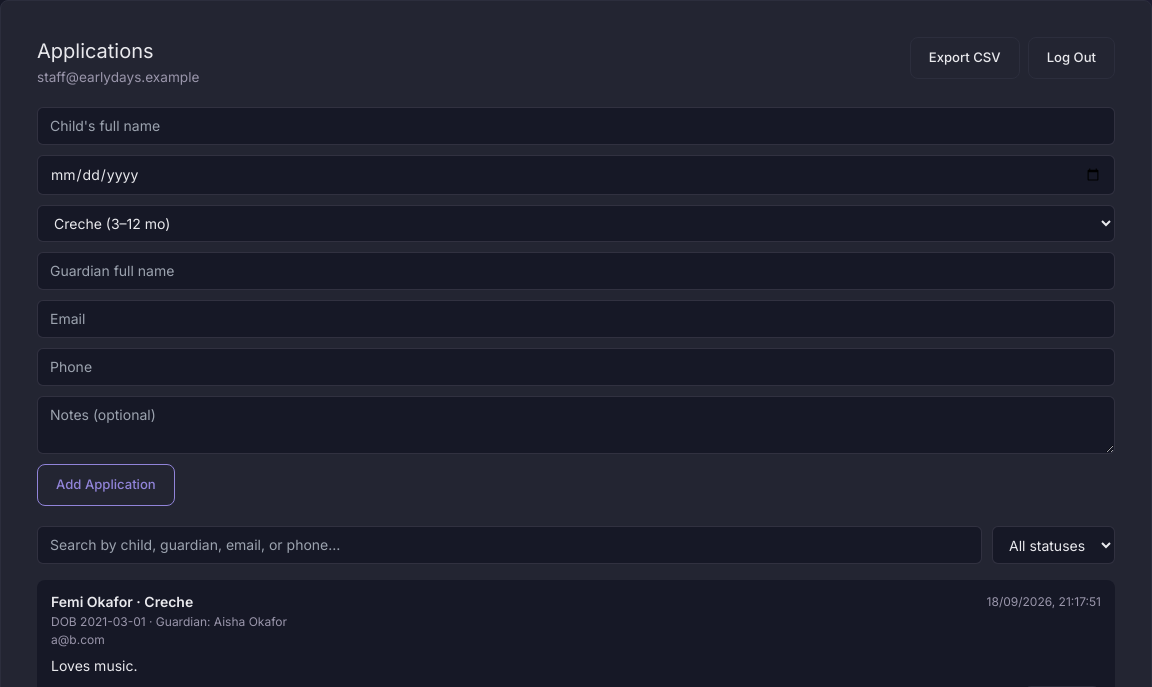
Test case: AdminApplicationsList › shows an error and keeps the form filled in when create fails
Expected: the text "Femi Okafor · Creche" is shown, top-left (51, 592), bottom-right (193, 612)
Type "New Kid" into the field with placeholder "Child's full name". click: (576, 126)
box: top-left (37, 107), bottom-right (1115, 145)
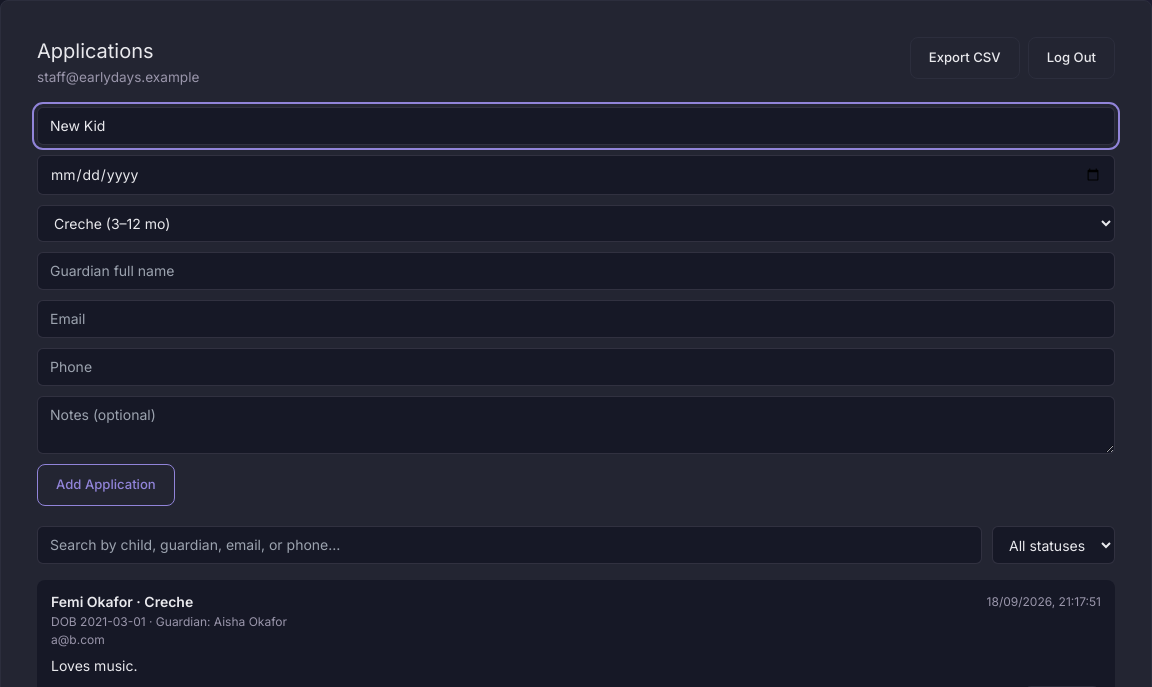
Type "2022-01-01" into the date field named "Child's date of birth". click: (576, 175)
box: top-left (37, 155), bottom-right (1115, 195)
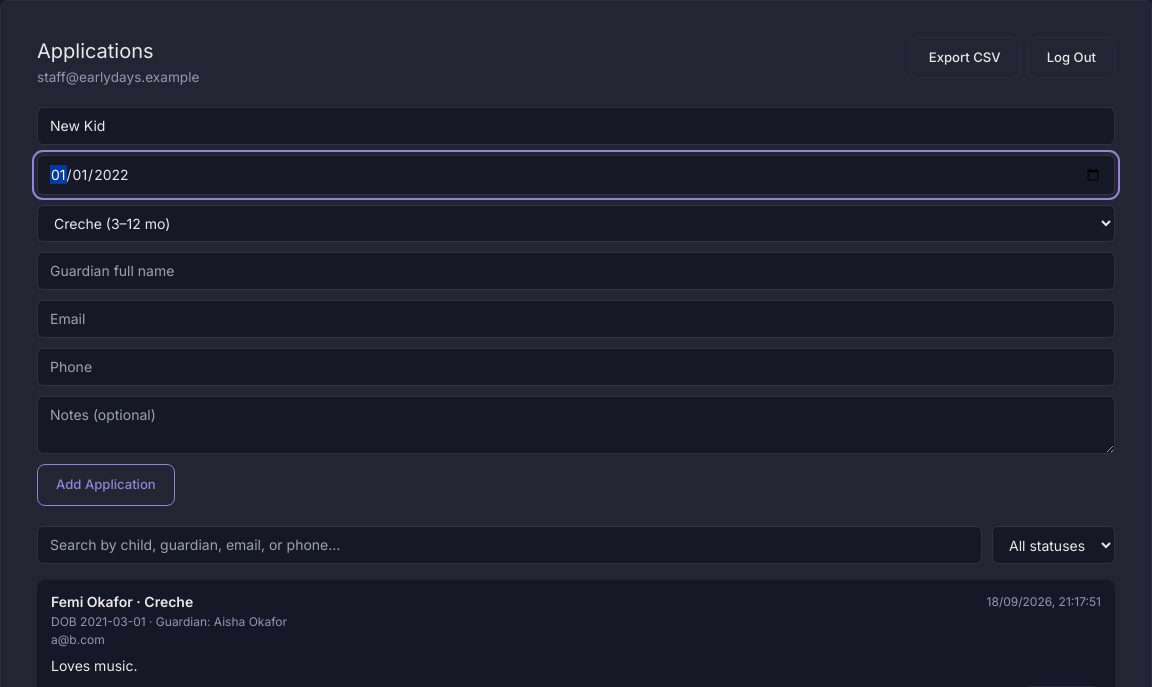
Type "New Guardian" into the field with placeholder "Guardian full name". click: (576, 271)
box: top-left (37, 252), bottom-right (1115, 290)
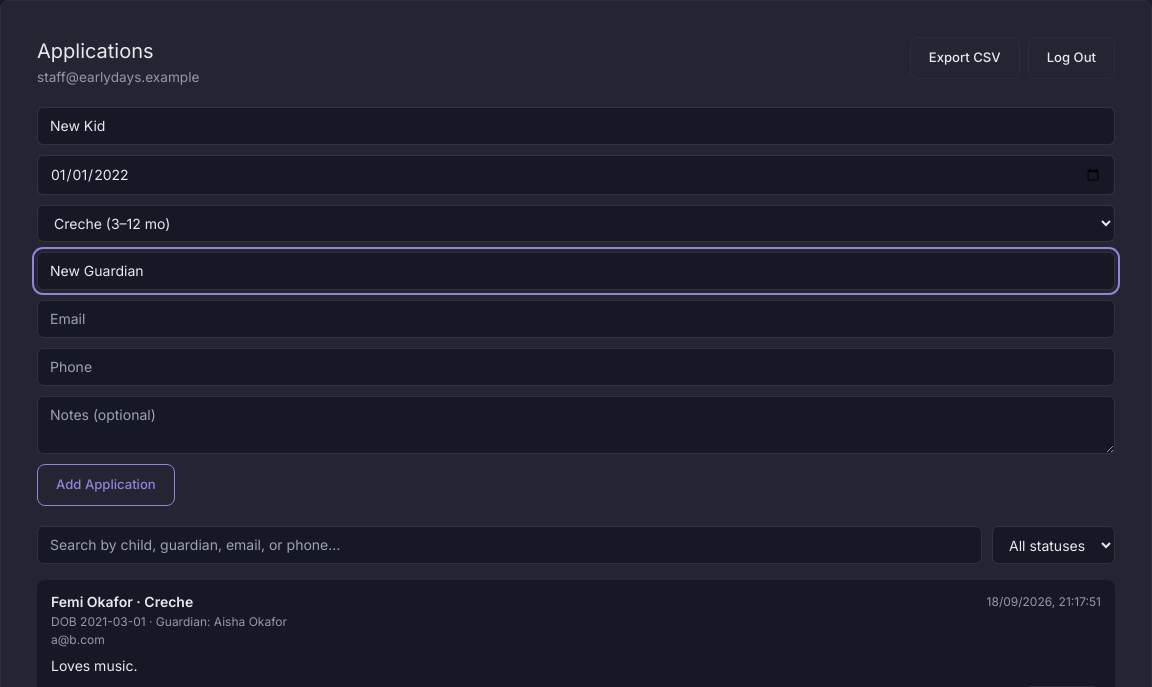
Click the button "Add Application". click: (106, 485)
box: top-left (37, 464), bottom-right (175, 506)
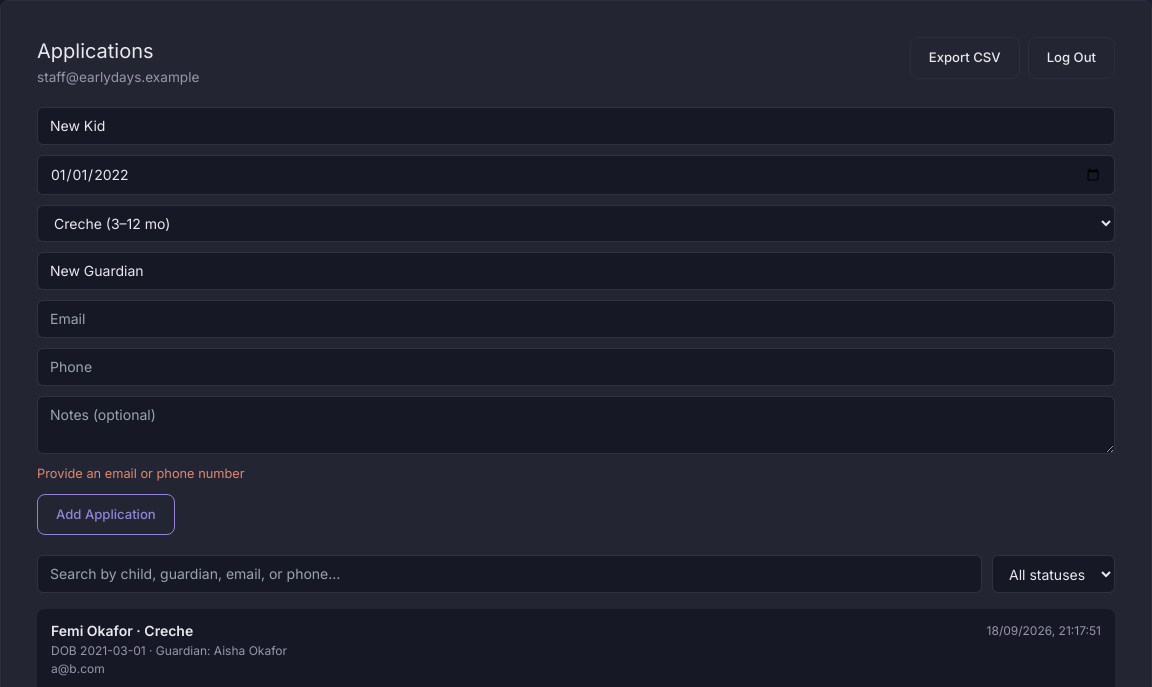
Now the text "Provide an email or phone number" is shown, box top-left (37, 466), bottom-right (245, 481)
